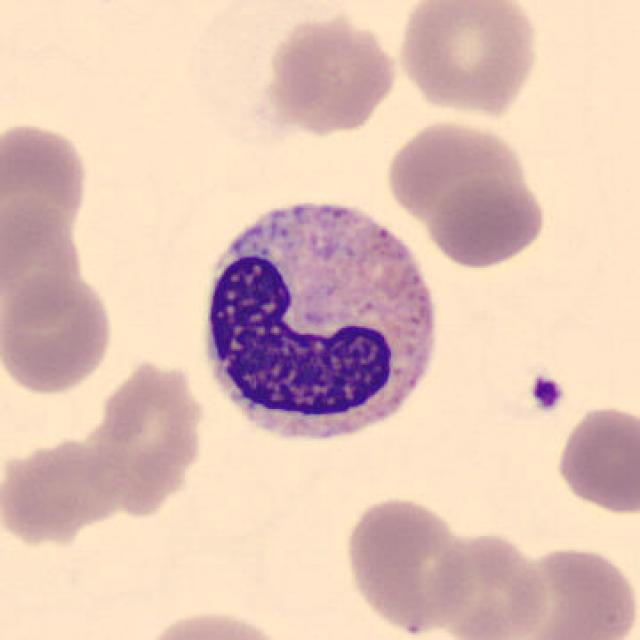Neutrophil: (185, 180, 450, 462)
Platelets: (526, 370, 569, 418)
RBC: (89, 359, 214, 524), (340, 492, 478, 638), (261, 7, 402, 138), (393, 0, 542, 118), (382, 116, 535, 224), (0, 271, 117, 398), (0, 430, 122, 550), (423, 529, 553, 640), (496, 541, 638, 640), (0, 114, 92, 259), (423, 174, 549, 270), (551, 401, 638, 518), (130, 604, 297, 640)
